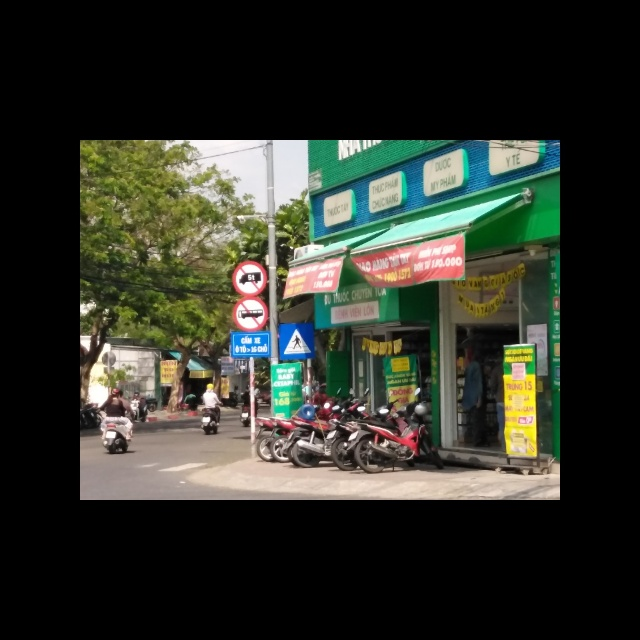Cấm xe tải: (234, 257, 270, 293)
Cấm xe xe khách: (232, 296, 269, 333)
Đường dành cho người đi bộ: (279, 323, 316, 360)
